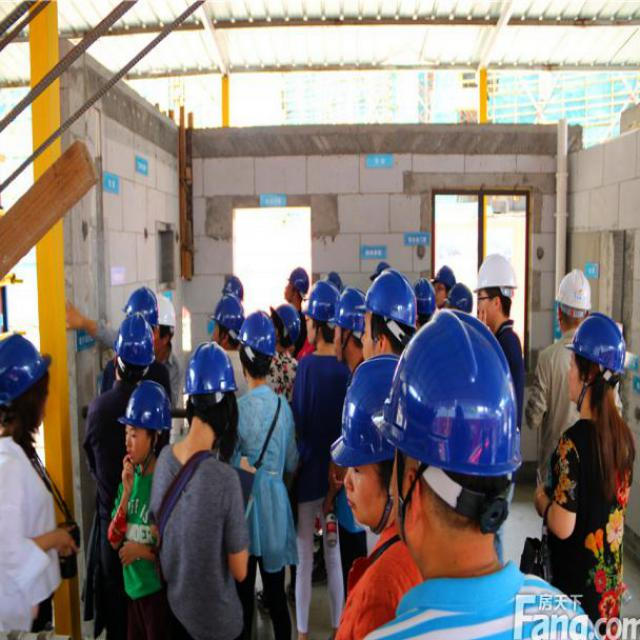helmet: (391, 318, 534, 560), (336, 351, 394, 525), (565, 309, 631, 417), (0, 325, 60, 434), (188, 337, 232, 444), (118, 382, 171, 466), (359, 271, 419, 345), (476, 245, 522, 322), (110, 303, 150, 385), (239, 304, 273, 377), (206, 287, 246, 348), (554, 258, 588, 324), (304, 280, 333, 356), (270, 296, 298, 349), (442, 276, 474, 320)
